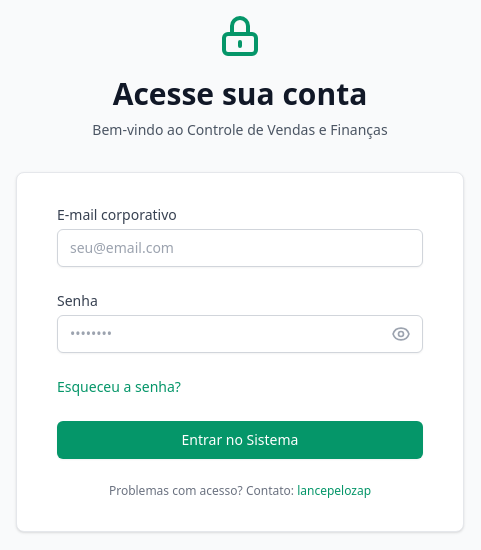
Test: LoginPage › mostra link "Esqueceu a senha?" e alterna para forgot mode
Click the button "Esqueceu a senha?" at (119, 387), box x1=57 y1=377 x2=181 y2=397
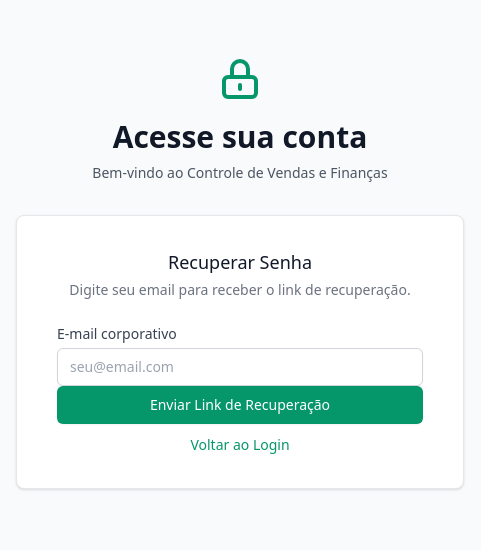
Check: the heading "Recuperar Senha" is shown, box x1=168 y1=250 x2=312 y2=274
Check: the button "Enviar Link de Recuperação" is shown, box x1=57 y1=386 x2=423 y2=424
